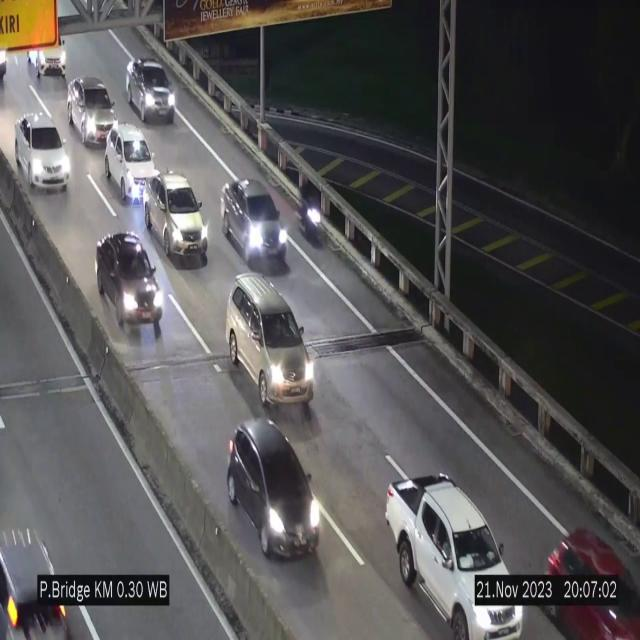Car: (386, 474, 521, 640), (224, 410, 320, 558), (226, 273, 315, 414), (96, 232, 168, 345), (220, 178, 288, 271), (144, 170, 209, 260), (105, 122, 161, 202), (15, 113, 70, 190), (66, 71, 116, 149), (126, 57, 176, 124)
Motorcycle: (301, 175, 323, 255)
